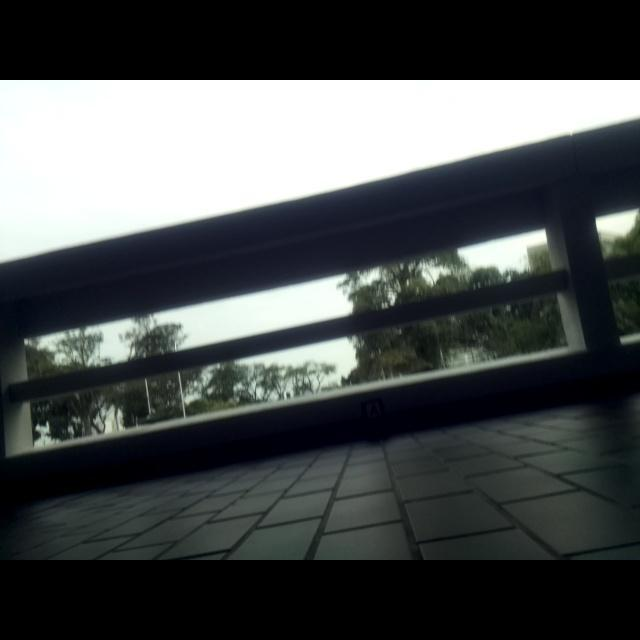A: (371, 403, 380, 416)
